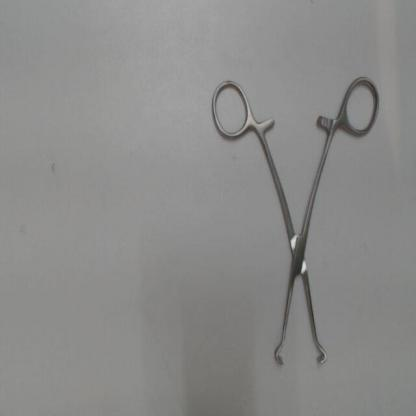Babcock Tissue Forceps: (208, 71, 382, 374)
